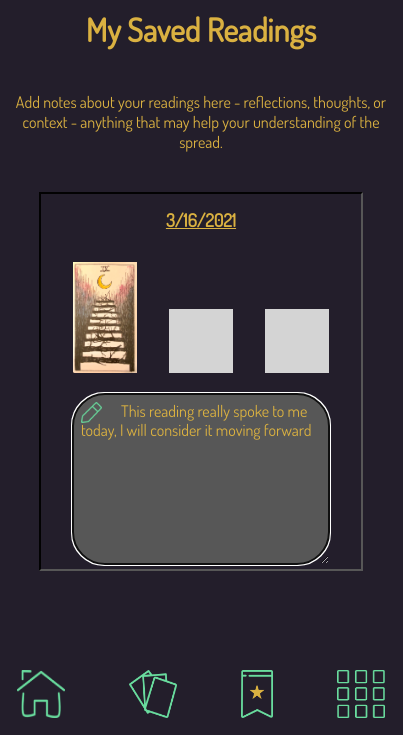
Test: FuturMystic - Saved Readings Page › Should have comment persist if user navigates away from saved readings page
Click the 2nd picture with class "footer-icon" at x=153, y=694, box x1=129 y1=670 x2=177 y2=718
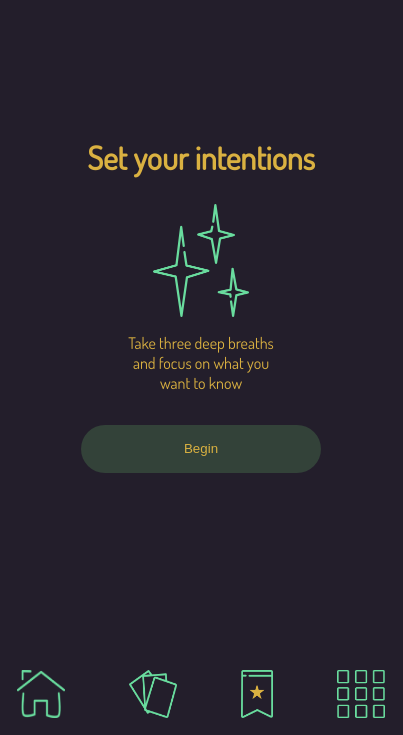
Check: the element with class "intention-section" is shown, box x1=81 y1=137 x2=321 y2=473
Click the 3rd picture with class "footer-icon" at x=257, y=694, box x1=241 y1=670 x2=273 y2=718
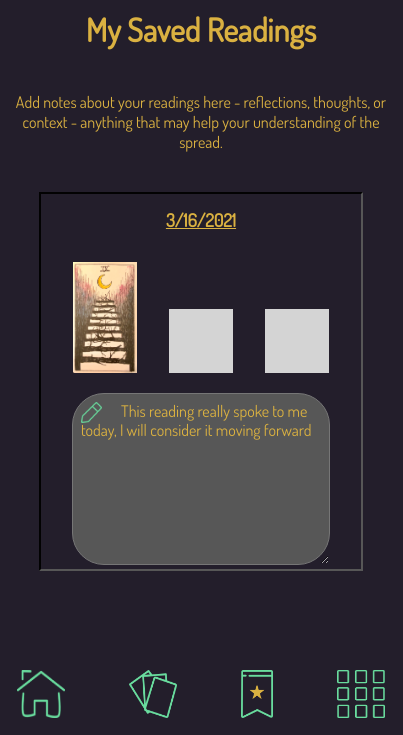
Check: the text box holds "This reading really spoke to me today, I will consider it moving forward", box x1=72 y1=393 x2=330 y2=565
